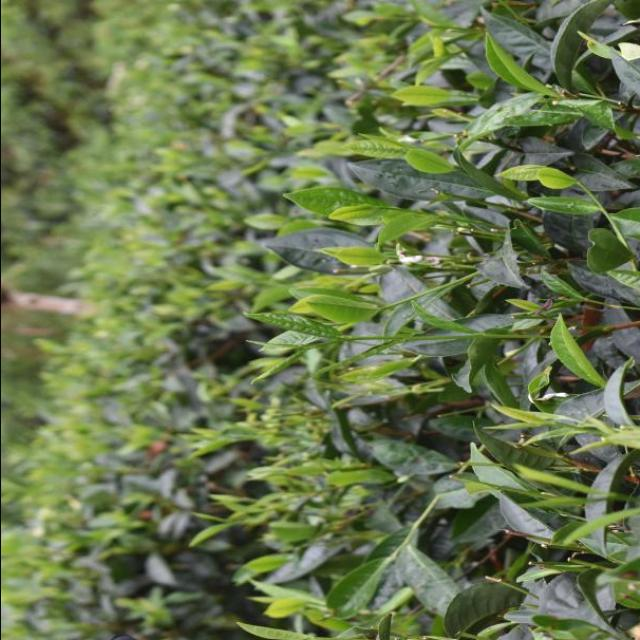Stem: (338, 336, 347, 341), (576, 182, 582, 186), (308, 637, 315, 640), (553, 421, 558, 425)
